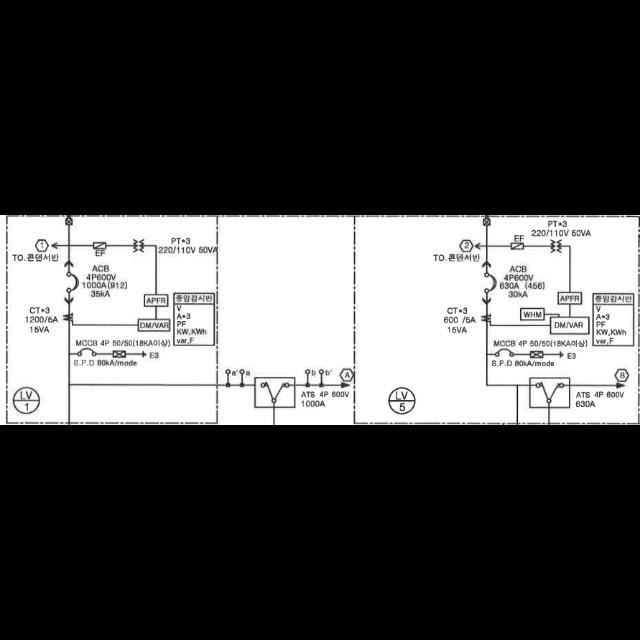ACB: (483, 272, 497, 294), (66, 272, 80, 292)
CT: (481, 314, 491, 324), (63, 314, 73, 322)
GND: (142, 351, 146, 359), (560, 351, 564, 359)
MCCB: (495, 348, 513, 358), (78, 348, 96, 356)
PF2: (92, 242, 106, 250), (511, 242, 524, 250)
PT: (132, 239, 144, 253), (550, 240, 562, 252)
